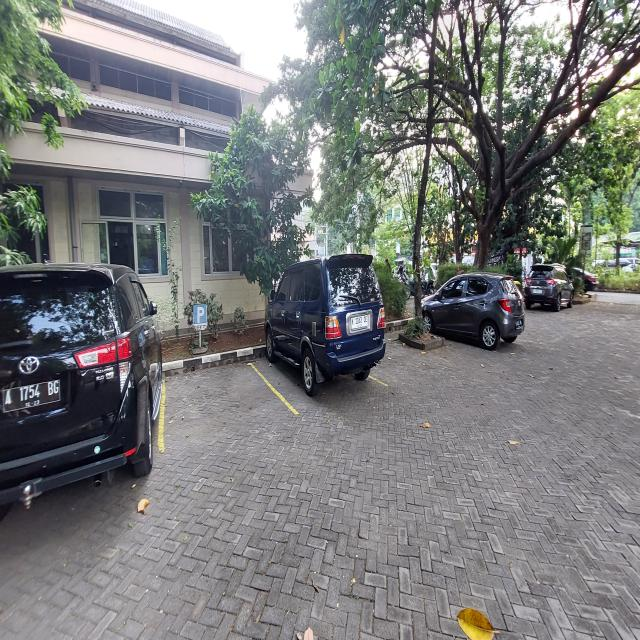empty: (159, 361, 297, 455), (378, 334, 449, 386)
occupied: (0, 266, 165, 528), (246, 255, 388, 419)
